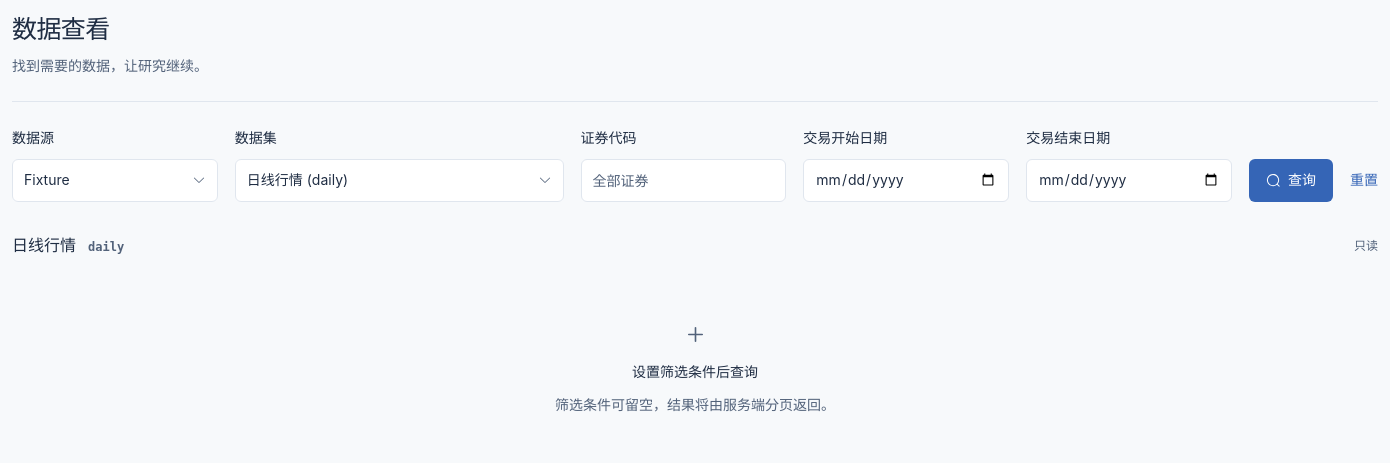
Test: DatasetView › hides old records while loading and reset invalidates the request but keeps selection
Type "000001.SZ" into the field labelled "证券代码" at (683, 180), box [580, 159, 786, 202]
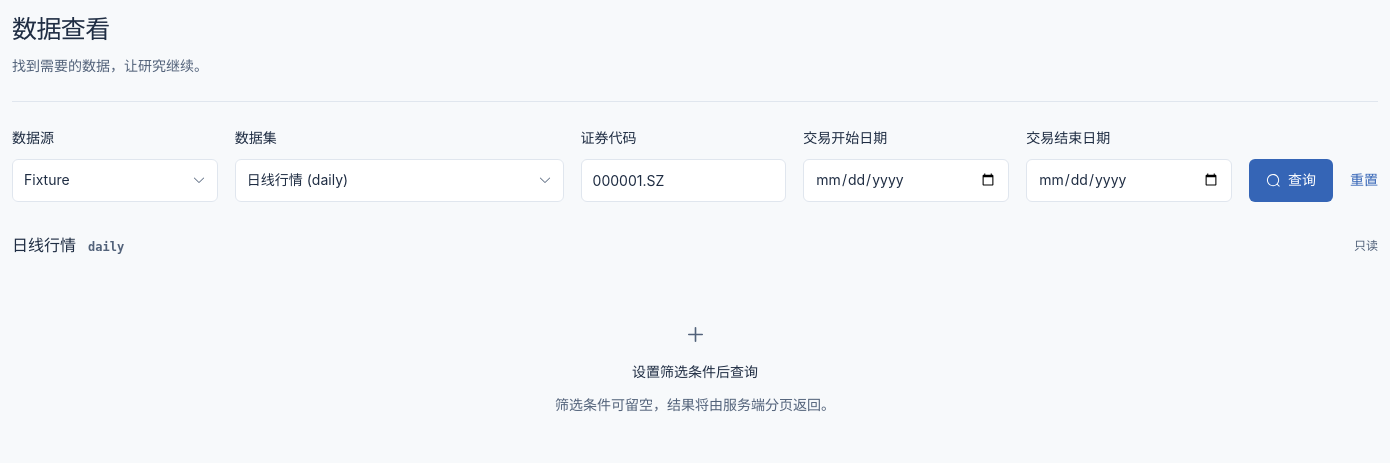
Submit the form, box [12, 127, 1378, 202]
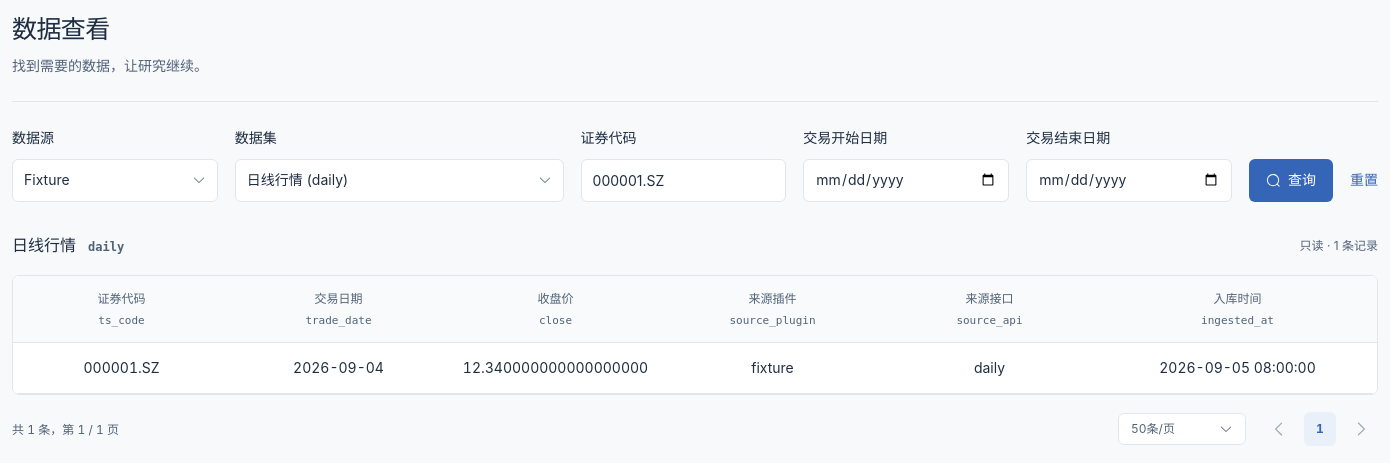
Expected: the element named "数据表格，可横向滚动" is shown, [12, 275, 1378, 395]
Expected: the navigation bar is shown, [12, 412, 1378, 446]
Replace the text in the field labelled "证券代码" with "000002.SZ" at (683, 180), box [580, 159, 786, 202]
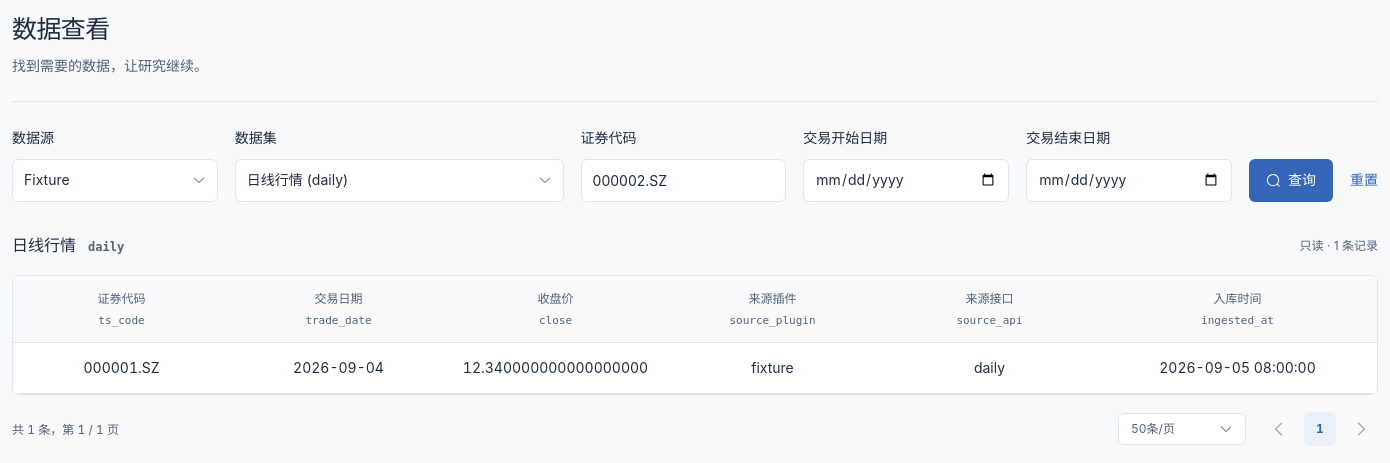
Submit the form, box [12, 127, 1378, 202]
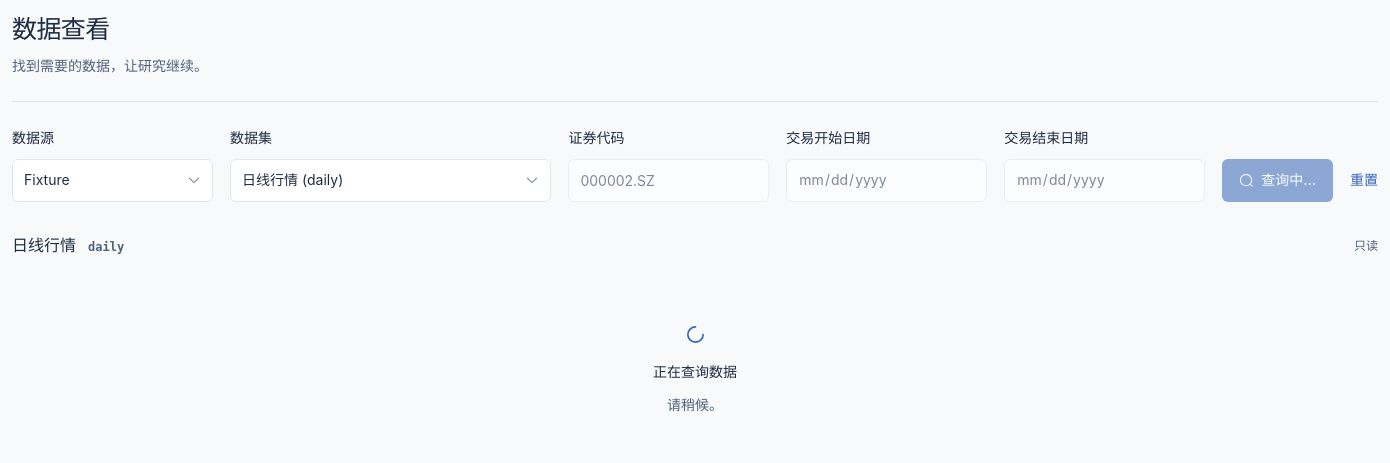
Expected: the button "查询中…" is disabled, [1222, 159, 1333, 202]
Expected: the heading "正在查询数据" is shown, [653, 363, 737, 382]
Click the button "重置" at (1364, 180), box [1350, 165, 1378, 196]
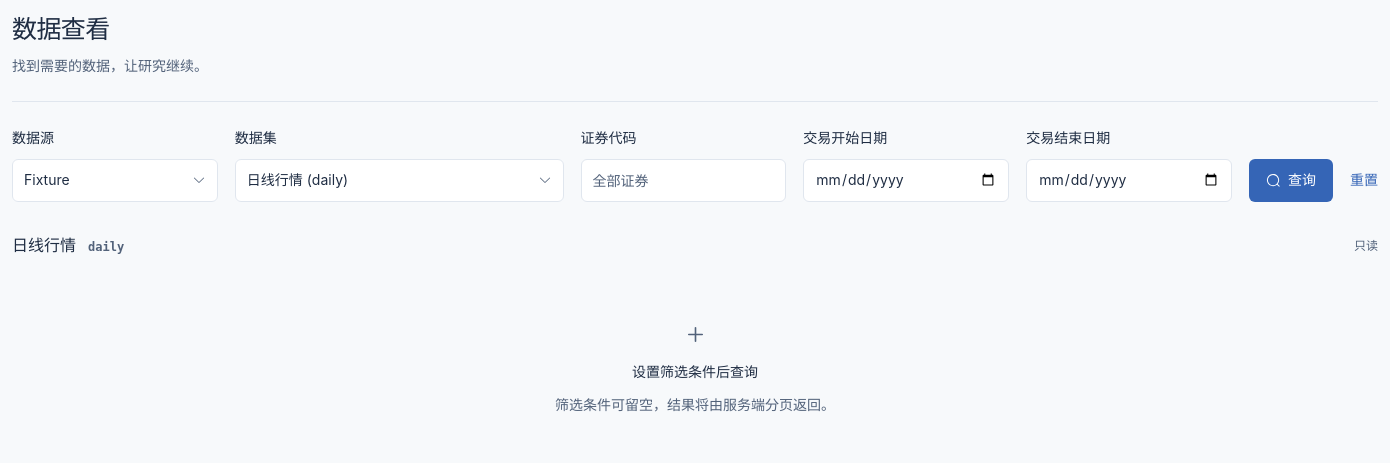
Expected: the text "daily" is shown, [88, 240, 124, 254]
Expected: the field labelled "证券代码" is empty, [580, 159, 786, 202]
Expected: the heading "设置筛选条件后查询" is shown, [632, 363, 758, 382]
